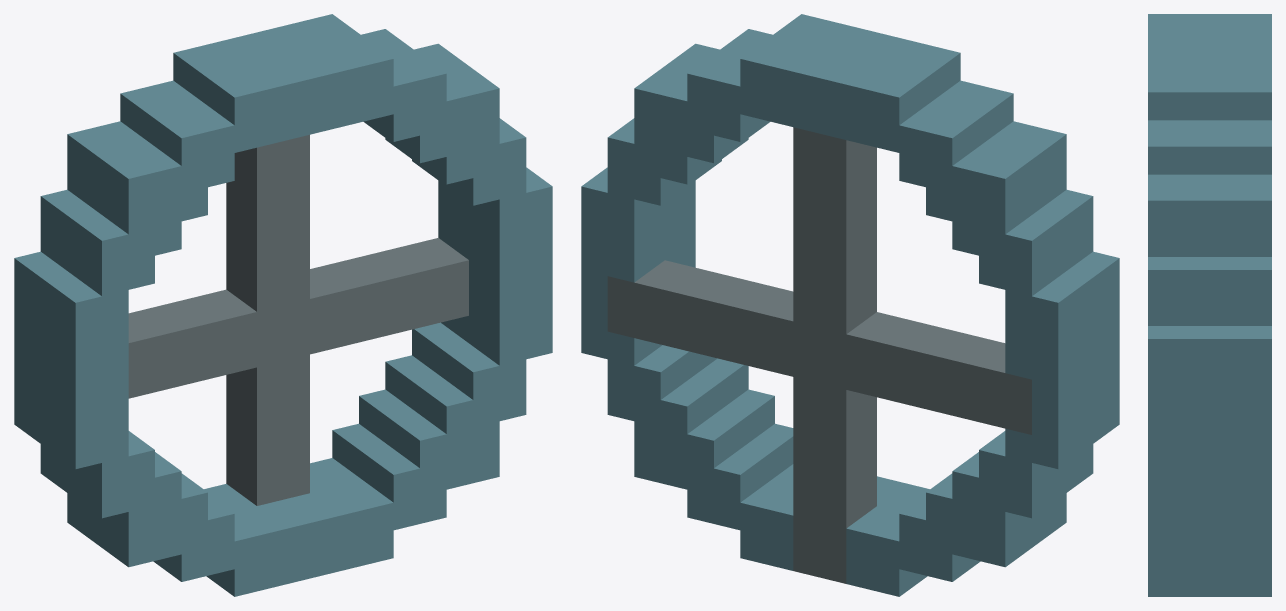
File: ocean-10.glb
3 views of the same model, side by side, from view 1: azimuth 30°, elevation 25°; view 2: azimuth 150°, elevation 25°; view 3: azimuth 270°, elevation 25° (orthographic).
Visible parts, largest first — view 1: Nautical compass; view 2: Nautical compass; view 3: Nautical compass.
Part boxes in pixels (box(x1,y1,x2,y2)): Nautical compass: box(14, 14, 552, 596); Nautical compass: box(581, 14, 1119, 596); Nautical compass: box(1148, 14, 1271, 596).
Bounding box in the file's own units: 1.44 × 1.44 × 0.32.
